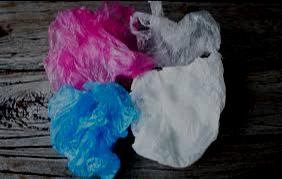Plastic: (125, 50, 227, 167), (42, 2, 160, 85), (47, 83, 140, 178)
